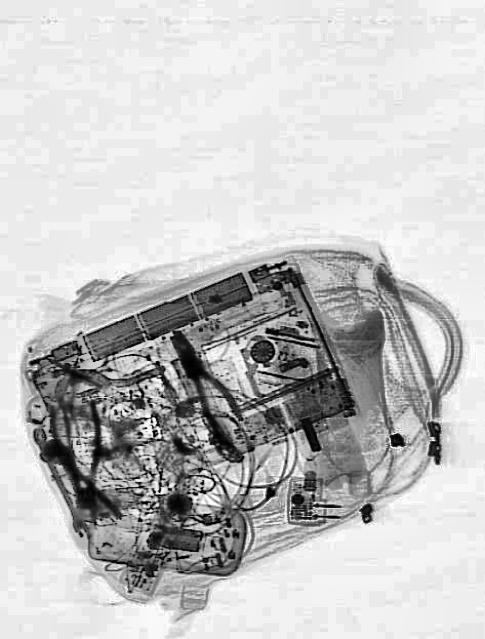Pliers: (157, 318, 261, 468), (60, 401, 106, 528)
Wrench: (28, 422, 89, 540)
